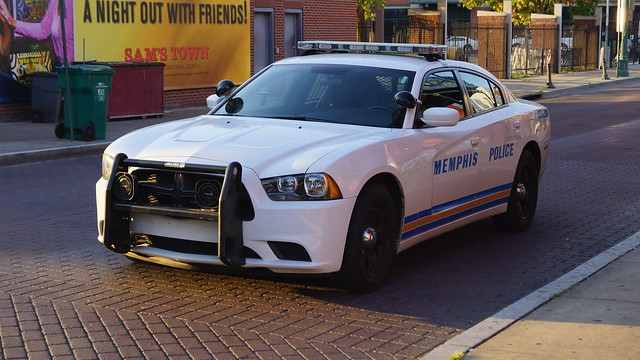car: (90, 34, 562, 295)
